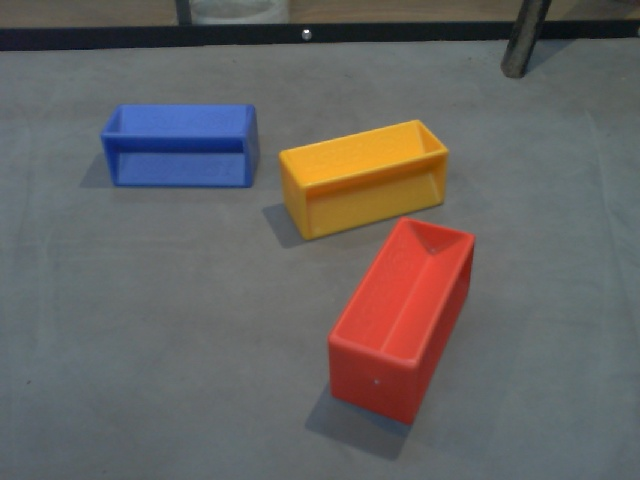BlueSample: (98, 99, 266, 194)
RedSample: (324, 213, 475, 428)
YellowSample: (277, 116, 452, 238)
